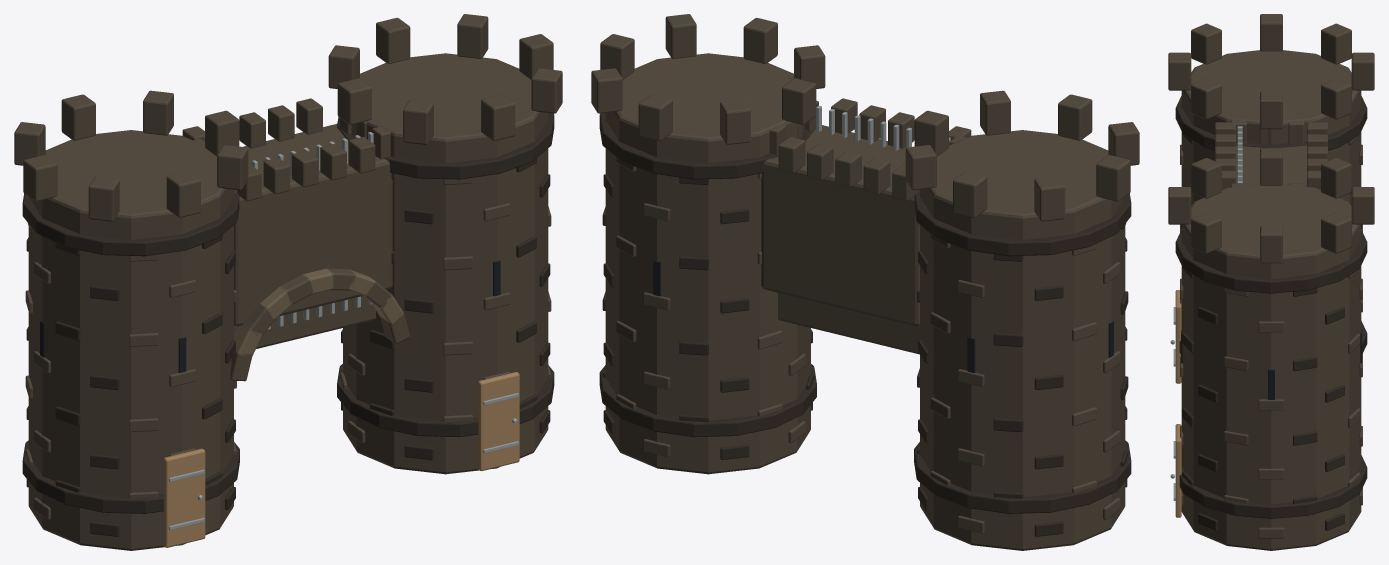
File: city_gatehouse.glb
3 views of the same model, side by side, from view 1: azimuth 30°, elevation 25°; view 2: azimuth 150°, elevation 25°; view 3: azimuth 270°, elevation 25° (orthographic). The views are drawn at different scales.
Parts seen in each view (by area): view 1: TowerBody, TowerBody.001, GateBridge, TowerBand.001, INTERACT_Door, INTERACT_Door.001, TowerBand, TowerBand.002, TowerBand.003, GateLintel, TowerMerlon.012, TowerMerlon.006 (+21 smaller); view 2: TowerBody, TowerBody.001, GateBridge, TowerBand.001, TowerBand, TowerBand.002, GateLintel, TowerBand.003, TowerMerlon.012, TowerMerlon.002, TowerMerlon.004, TowerMerlon.010 (+17 smaller); view 3: TowerBody.001, TowerBody, TowerBand.003, TowerBand.002, TowerBand.001, GateBridge, TowerMerlon.001, TowerMerlon.007, TowerMerlon.009, TowerMerlon.015, TowerMerlon.003, TowerMerlon.005 (+27 smaller).
Part boxes in pixels (left/top/right/bottom): TowerBody: left=28, top=130, right=233, bottom=550; TowerBody.001: left=343, top=53, right=548, bottom=474; GateBridge: left=234, top=124, right=392, bottom=326; TowerBand.001: left=22, top=193, right=239, bottom=256; INTERACT_Door: left=163, top=448, right=205, bottom=547; INTERACT_Door.001: left=478, top=372, right=519, bottom=471; TowerBand: left=22, top=440, right=239, bottom=513; TowerBand.002: left=337, top=364, right=554, bottom=437; TowerBand.003: left=337, top=113, right=554, bottom=179; GateLintel: left=234, top=296, right=375, bottom=348; TowerMerlon.012: left=337, top=78, right=371, bottom=124; TowerMerlon.006: left=166, top=171, right=200, bottom=217; TowerBody: left=920, top=130, right=1125, bottom=550; TowerBody.001: left=605, top=53, right=810, bottom=474; GateBridge: left=761, top=125, right=919, bottom=326; TowerBand.001: left=914, top=189, right=1131, bottom=256; TowerBand: left=914, top=440, right=1131, bottom=513; TowerBand.002: left=599, top=364, right=816, bottom=437; GateLintel: left=778, top=293, right=919, bottom=354; TowerBand.003: left=599, top=113, right=815, bottom=179; TowerMerlon.012: left=782, top=78, right=816, bottom=124; TowerMerlon.002: left=953, top=171, right=987, bottom=217; TowerMerlon.004: left=1096, top=155, right=1130, bottom=201; TowerMerlon.010: left=638, top=94, right=672, bottom=141; TowerBody.001: left=1181, top=184, right=1361, bottom=550; TowerBody: left=1181, top=50, right=1361, bottom=205; TowerBand.003: left=1175, top=230, right=1367, bottom=293; TowerBand.002: left=1179, top=455, right=1367, bottom=518; TowerBand.001: left=1175, top=96, right=1367, bottom=150; GateBridge: left=1236, top=145, right=1306, bottom=186; TowerMerlon.001: left=1321, top=78, right=1351, bottom=119; TowerMerlon.007: left=1191, top=78, right=1221, bottom=119; TowerMerlon.009: left=1321, top=212, right=1351, bottom=253; TowerMerlon.015: left=1191, top=212, right=1221, bottom=253; TowerMerlon.003: left=1321, top=23, right=1351, bottom=64; TowerMerlon.005: left=1191, top=23, right=1221, bottom=64.
Bounding box in the file's own units: 13.7 × 9.32 × 5.4.
